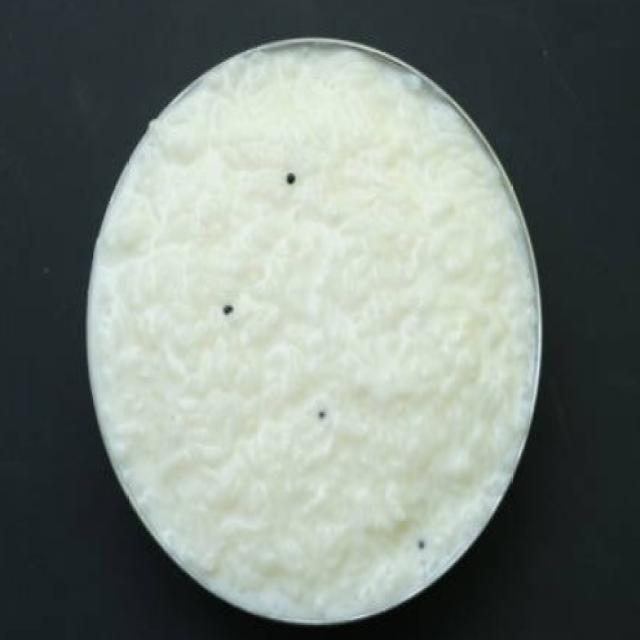CURD RICE: (89, 41, 541, 623)
